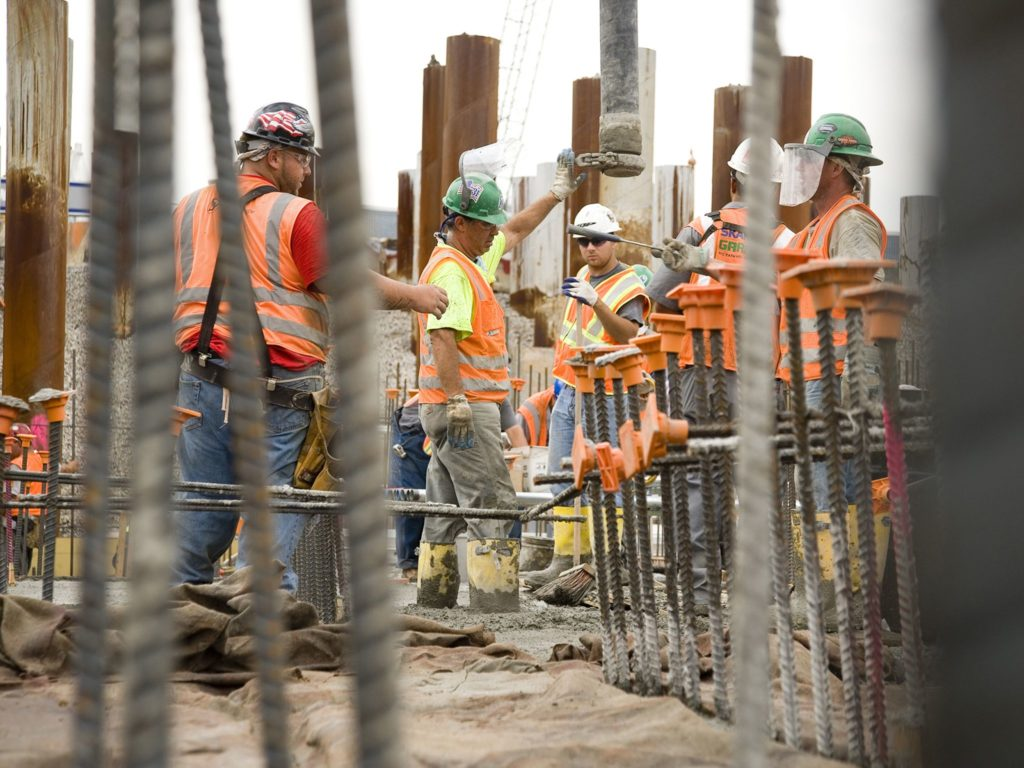cap: (221, 97, 347, 158), (803, 103, 894, 171), (424, 163, 522, 225), (718, 130, 791, 180), (558, 195, 634, 243)
jacket: (176, 170, 334, 395), (683, 199, 796, 386), (399, 249, 531, 406), (798, 203, 902, 396), (552, 261, 664, 398)
